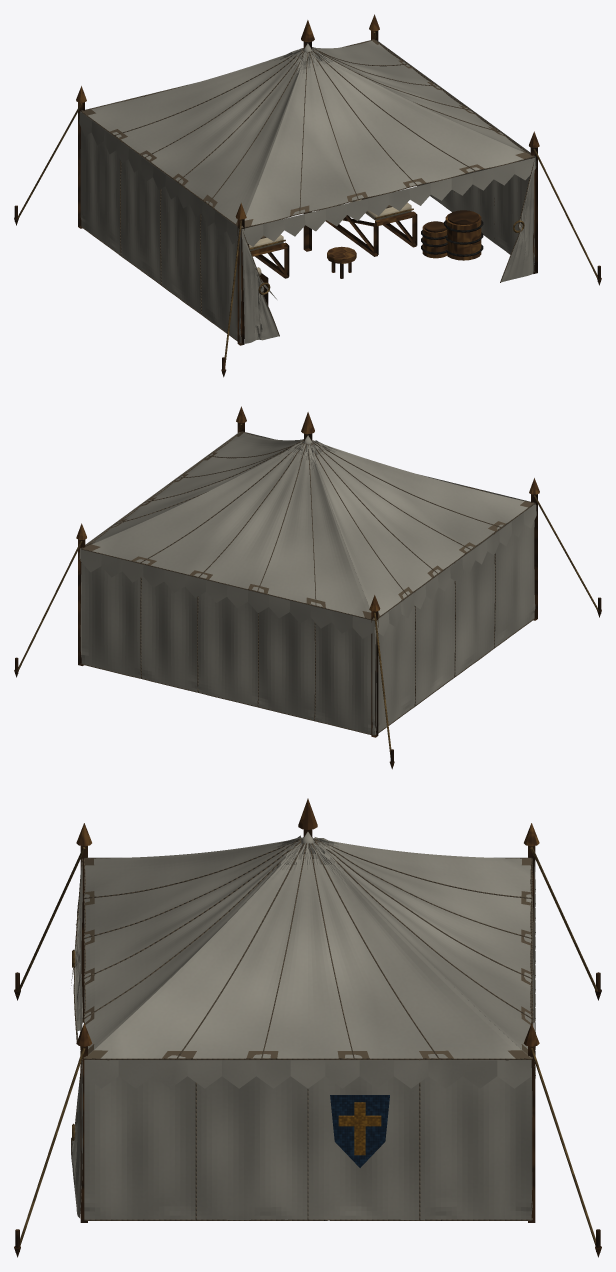
The model's file is medieval_medical_tent_3d_runtime.glb.
3 views of the same model, one above another, from view 1: azimuth 30°, elevation 25°; view 2: azimuth 150°, elevation 25°; view 3: azimuth 270°, elevation 25° (orthographic). The views are drawn at different scales.
Visible parts, largest first — view 1: MEDICAL_TENT_CLOTH_MED_CANOPY_END_-1, MEDICAL_TENT_CLOTH_MED_CANOPY_SIDE_-1, MEDICAL_TENT_CLOTH_MED_SIDE_-1, MEDICAL_TENT_MEDICAL_CANVAS_BATCH, MEDICAL_TENT_CANVAS_DARK_BATCH, MEDICAL_TENT_WOOD_DARK_BATCH, MEDICAL_TENT_CLOTH_MED_CANOPY_SIDE_1, MEDICAL_TENT_CLOTH_MED_SIDE_1, MEDICAL_TENT_WOOD_MID_BATCH, MEDICAL_TENT_CLOTH_MED_FRONT_WING_-1, MEDICAL_TENT_CLOTH_MED_FRONT_WING_1, MEDICAL_TENT_ROPE_BATCH (+2 smaller); view 2: MEDICAL_TENT_CLOTH_MED_REAR, MEDICAL_TENT_CLOTH_MED_CANOPY_END_1, MEDICAL_TENT_CLOTH_MED_CANOPY_SIDE_-1, MEDICAL_TENT_CLOTH_MED_SIDE_-1, MEDICAL_TENT_MEDICAL_CANVAS_BATCH, MEDICAL_TENT_CANVAS_DARK_BATCH, MEDICAL_TENT_CLOTH_MED_CANOPY_SIDE_1, MEDICAL_TENT_WOOD_DARK_BATCH, MEDICAL_TENT_ROPE_BATCH, MEDICAL_TENT_WOOD_MID_BATCH; view 3: MEDICAL_TENT_CLOTH_MED_SIDE_1, MEDICAL_TENT_CLOTH_MED_CANOPY_SIDE_1, MEDICAL_TENT_CLOTH_MED_CANOPY_END_1, MEDICAL_TENT_CLOTH_MED_CANOPY_END_-1, MEDICAL_TENT_MEDICAL_CANVAS_BATCH, MEDICAL_TENT_CANVAS_DARK_BATCH, MEDICAL_TENT_WOOD_DARK_BATCH, MEDICAL_TENT_HERALDRY_BLUE_BATCH, MEDICAL_TENT_ROPE_BATCH, MEDICAL_TENT_WOOD_MID_BATCH, MEDICAL_TENT_CLOTH_MED_FRONT_WING_1, MEDICAL_TENT_HERALDRY_GOLD_BATCH (+1 smaller).
Boxes of the visible parts, x1,y1,x2,y2 form: MEDICAL_TENT_CLOTH_MED_CANOPY_END_-1: (244, 51, 523, 225); MEDICAL_TENT_CLOTH_MED_CANOPY_SIDE_-1: (88, 49, 305, 227); MEDICAL_TENT_CLOTH_MED_SIDE_-1: (80, 112, 241, 342); MEDICAL_TENT_MEDICAL_CANVAS_BATCH: (79, 39, 536, 246); MEDICAL_TENT_CANVAS_DARK_BATCH: (81, 39, 534, 343); MEDICAL_TENT_WOOD_DARK_BATCH: (14, 30, 601, 377); MEDICAL_TENT_CLOTH_MED_CANOPY_SIDE_1: (312, 41, 526, 153); MEDICAL_TENT_CLOTH_MED_SIDE_1: (384, 47, 534, 271); MEDICAL_TENT_WOOD_MID_BATCH: (76, 14, 539, 263); MEDICAL_TENT_CLOTH_MED_FRONT_WING_-1: (242, 231, 278, 343); MEDICAL_TENT_CLOTH_MED_FRONT_WING_1: (501, 170, 534, 282); MEDICAL_TENT_ROPE_BATCH: (17, 31, 597, 365); MEDICAL_TENT_CLOTH_MED_REAR: (81, 549, 374, 734); MEDICAL_TENT_CLOTH_MED_CANOPY_END_1: (92, 442, 371, 617); MEDICAL_TENT_CLOTH_MED_CANOPY_SIDE_-1: (310, 441, 527, 619); MEDICAL_TENT_CLOTH_MED_SIDE_-1: (374, 504, 535, 734); MEDICAL_TENT_MEDICAL_CANVAS_BATCH: (79, 431, 536, 638); MEDICAL_TENT_CANVAS_DARK_BATCH: (81, 431, 535, 735); MEDICAL_TENT_CLOTH_MED_CANOPY_SIDE_1: (89, 433, 303, 545); MEDICAL_TENT_WOOD_DARK_BATCH: (14, 422, 601, 769); MEDICAL_TENT_ROPE_BATCH: (18, 423, 598, 757); MEDICAL_TENT_WOOD_MID_BATCH: (76, 406, 539, 611); MEDICAL_TENT_CLOTH_MED_SIDE_1: (84, 1060, 531, 1219); MEDICAL_TENT_CLOTH_MED_CANOPY_SIDE_1: (94, 843, 521, 1058); MEDICAL_TENT_CLOTH_MED_CANOPY_END_1: (314, 837, 531, 1057); MEDICAL_TENT_CLOTH_MED_CANOPY_END_-1: (84, 835, 301, 1057); MEDICAL_TENT_MEDICAL_CANVAS_BATCH: (80, 832, 535, 1088); MEDICAL_TENT_CANVAS_DARK_BATCH: (71, 837, 533, 1220); MEDICAL_TENT_WOOD_DARK_BATCH: (14, 829, 601, 1257); MEDICAL_TENT_HERALDRY_BLUE_BATCH: (330, 1095, 389, 1167); MEDICAL_TENT_ROPE_BATCH: (18, 847, 597, 1246); MEDICAL_TENT_WOOD_MID_BATCH: (76, 798, 539, 1046); MEDICAL_TENT_CLOTH_MED_FRONT_WING_1: (71, 1061, 82, 1218); MEDICAL_TENT_HERALDRY_GOLD_BATCH: (338, 1102, 381, 1155).
Size of the model in its own units: 9.2 by 5.48 by 8.81.
Materials: 12 (12 with a texture image).
